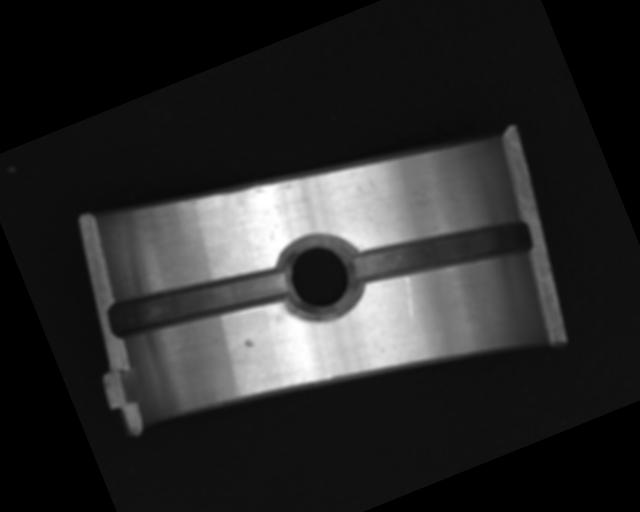bruise: (242, 336, 255, 349)
gap: (348, 190, 535, 314), (103, 241, 292, 360)
hole: (268, 221, 374, 332)
nick: (394, 275, 424, 323)
